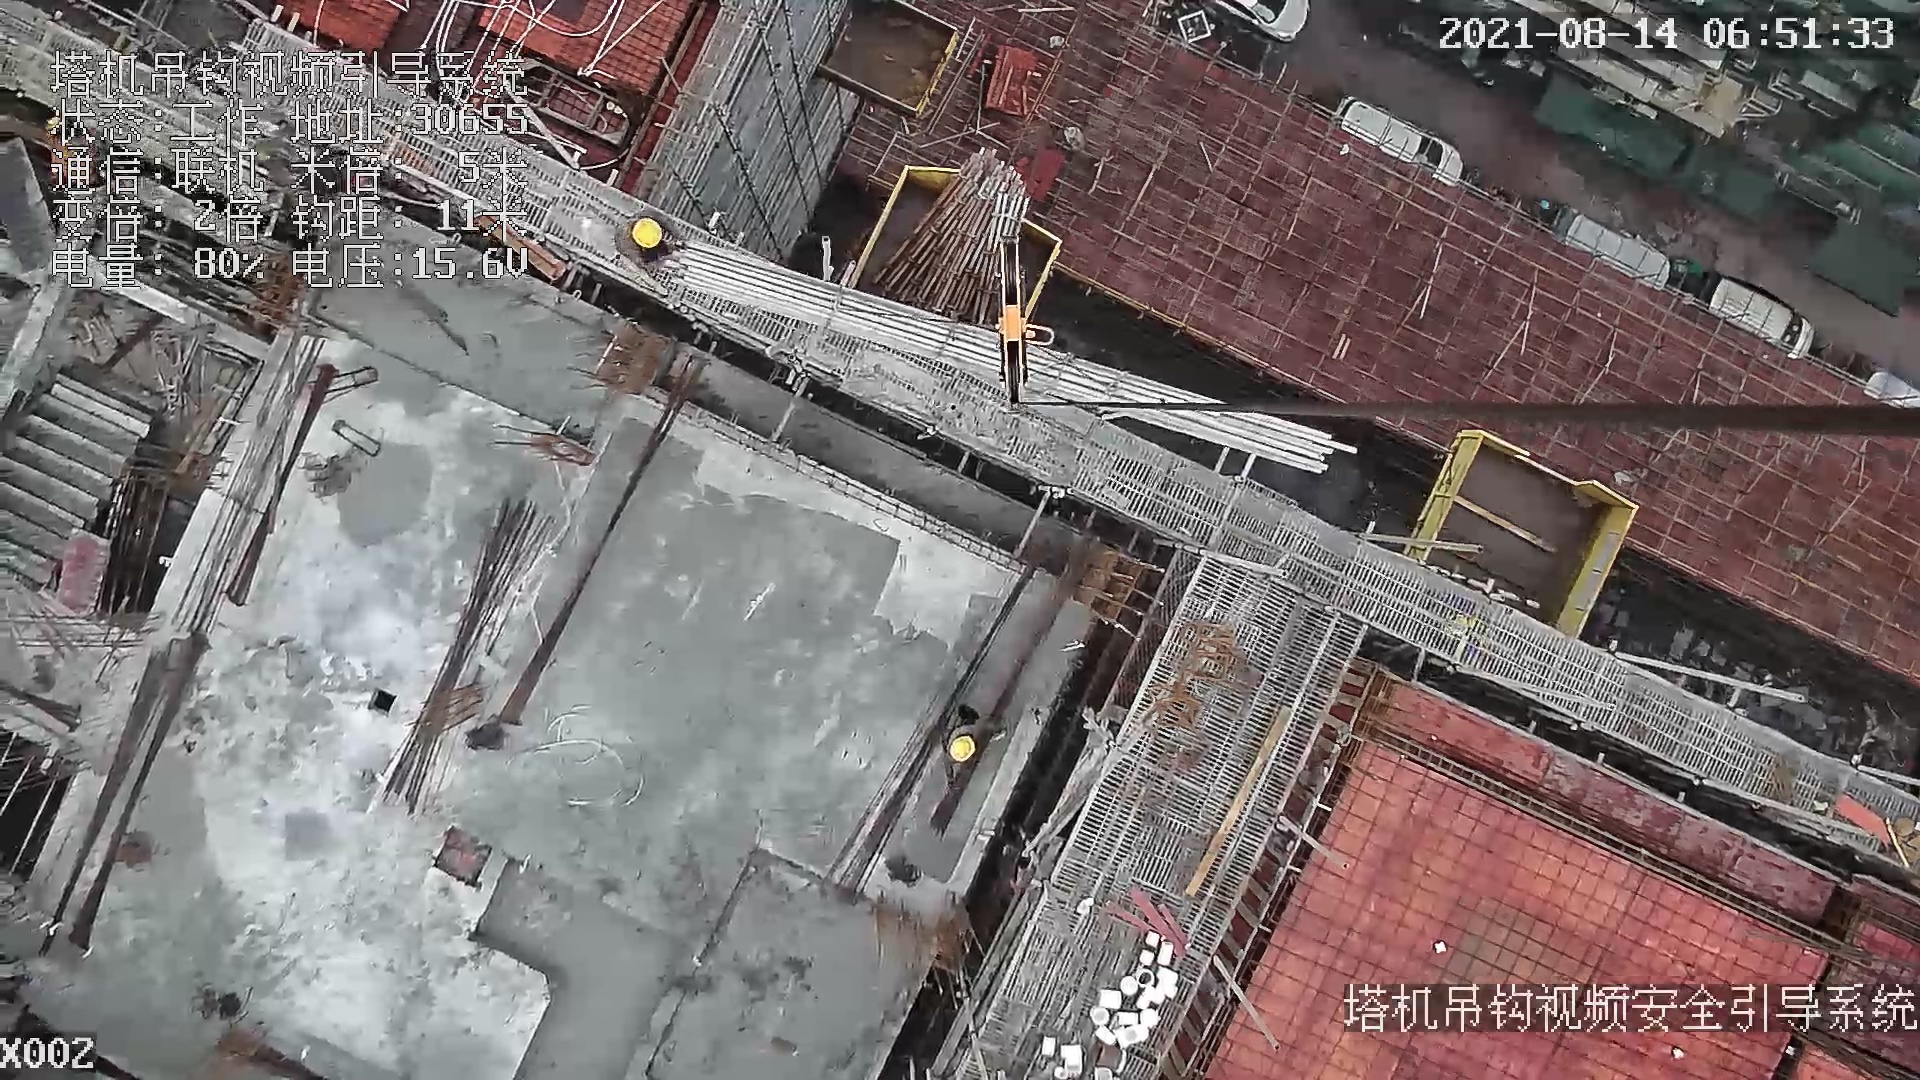helmet: (629, 218, 663, 250), (945, 735, 976, 766)
hook: (988, 233, 1050, 412)
person: (928, 700, 1008, 789), (619, 203, 686, 281)
rebar: (667, 245, 1358, 479), (379, 495, 559, 820)
scaffold: (869, 146, 1021, 326)
